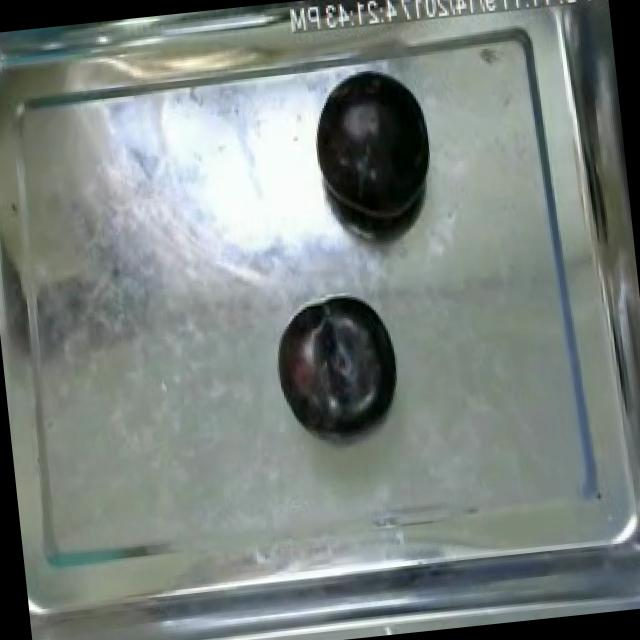Fruit: (302, 62, 440, 238), (267, 288, 408, 446)
